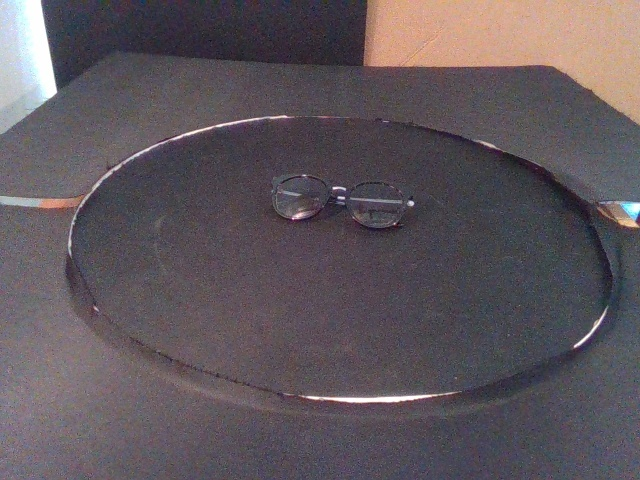glasses: (270, 171, 416, 230)
